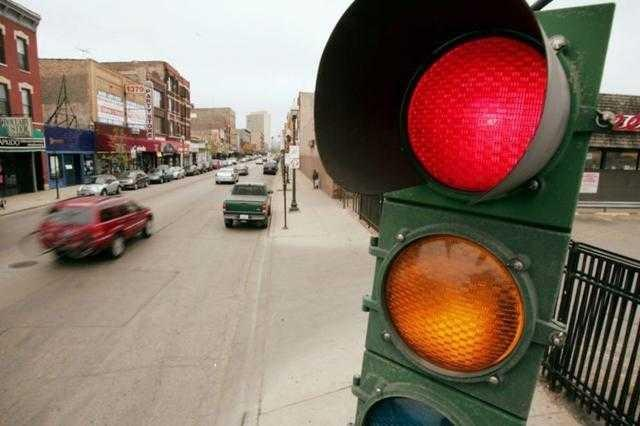red: (344, 0, 577, 229)
